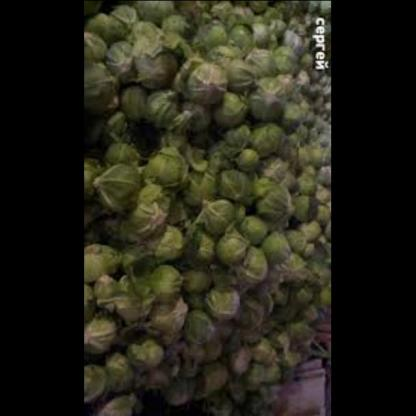brus capusta: (87, 3, 332, 416)
